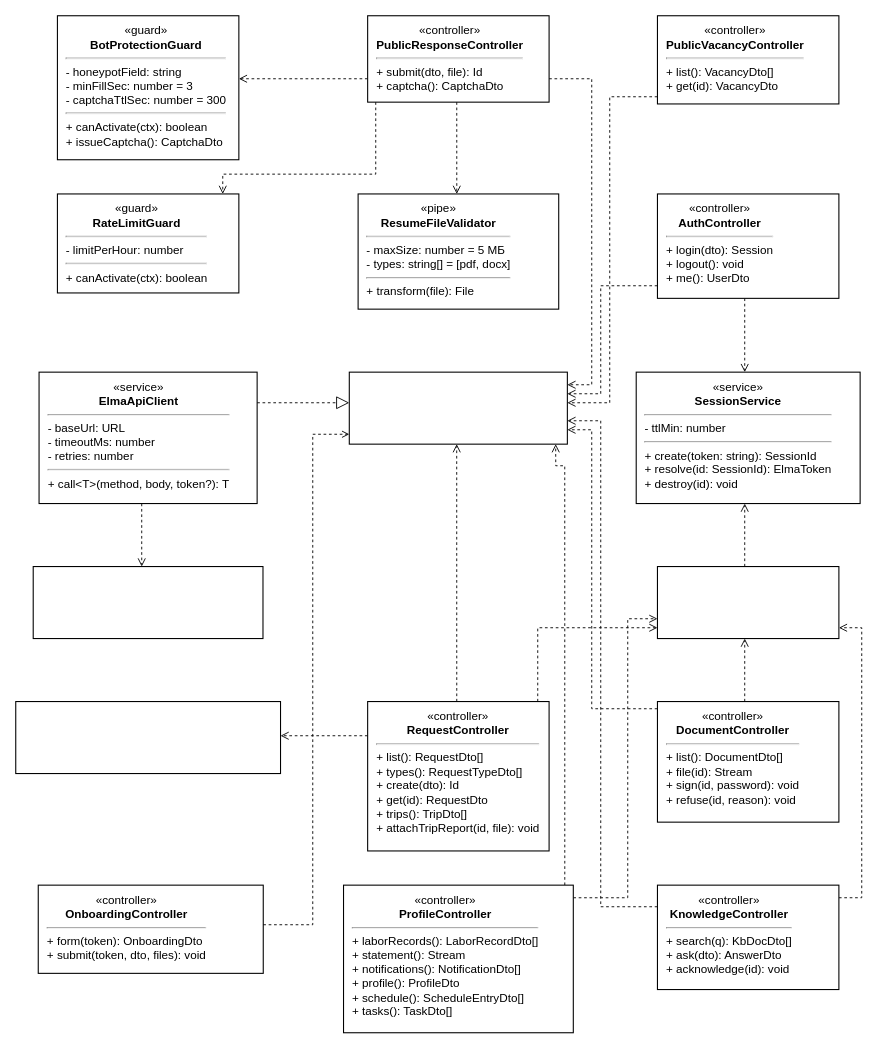
This 887x1049 diagram has some shape labels left out. Here are the shapes that lost their labels. From the top down, the centre of each, then its label:
the point at 457,407: «interface» IElmaGateway + call<T>(method, body, token?): T
the point at 147,602: «service» ErrorMapper + toUserMessage(e: Error): UserError
the point at 747,602: «guard» SessionGuard + canActivate(ctx): boolean
the point at 148,737: «pipe» RequestValidator + transform(dto, schema): CreateRequestDto
